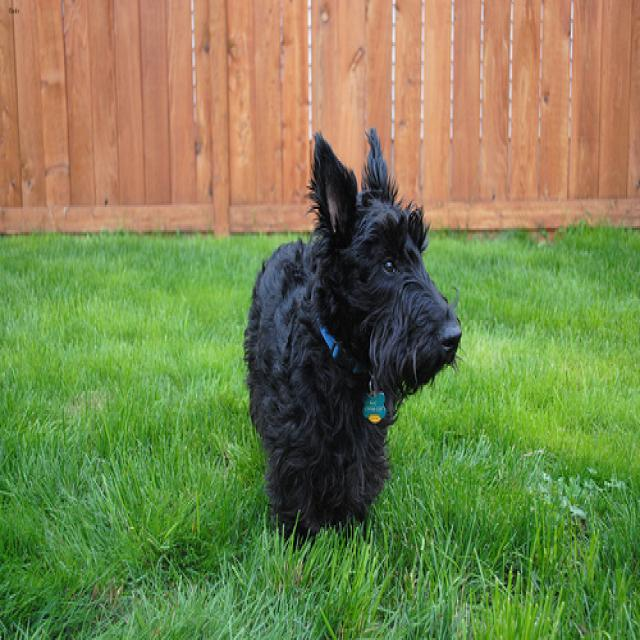dog-scottish_terrier: (238, 117, 468, 550)
